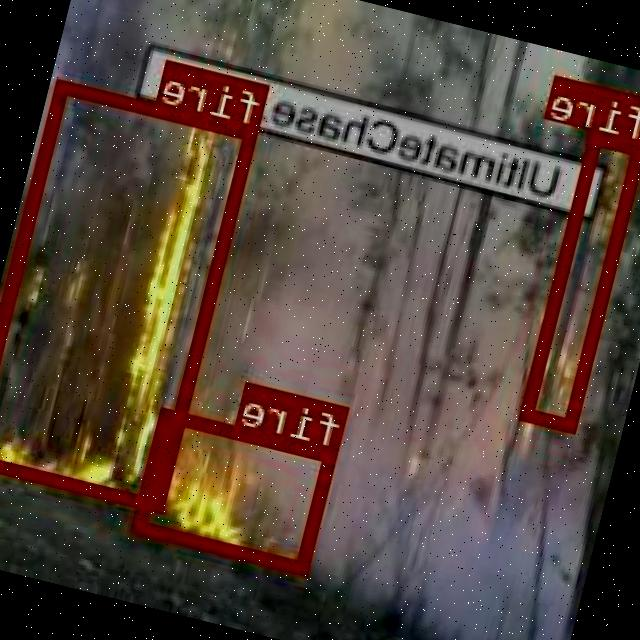fire: (0, 77, 259, 510), (523, 131, 640, 432), (135, 406, 340, 573)
